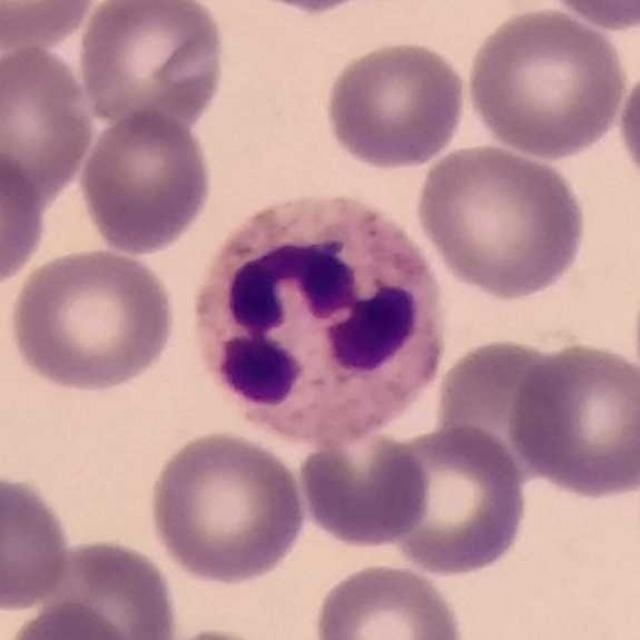Neutrophil: (184, 185, 452, 455)
RBC: (412, 139, 589, 302), (143, 426, 310, 587), (462, 5, 631, 162), (5, 244, 179, 396), (376, 421, 531, 579), (432, 333, 570, 506), (503, 337, 640, 501), (74, 0, 230, 135), (76, 106, 215, 257), (320, 37, 471, 171), (295, 422, 433, 551), (16, 533, 182, 640), (0, 41, 98, 205), (309, 558, 468, 640), (0, 468, 76, 614), (0, 145, 50, 294), (2, 597, 144, 640), (0, 0, 101, 51), (614, 54, 640, 200), (538, 0, 640, 31), (232, 0, 394, 18)
